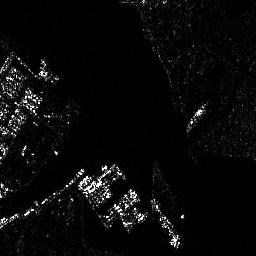ship: (151, 199, 182, 248), (185, 100, 208, 133)
